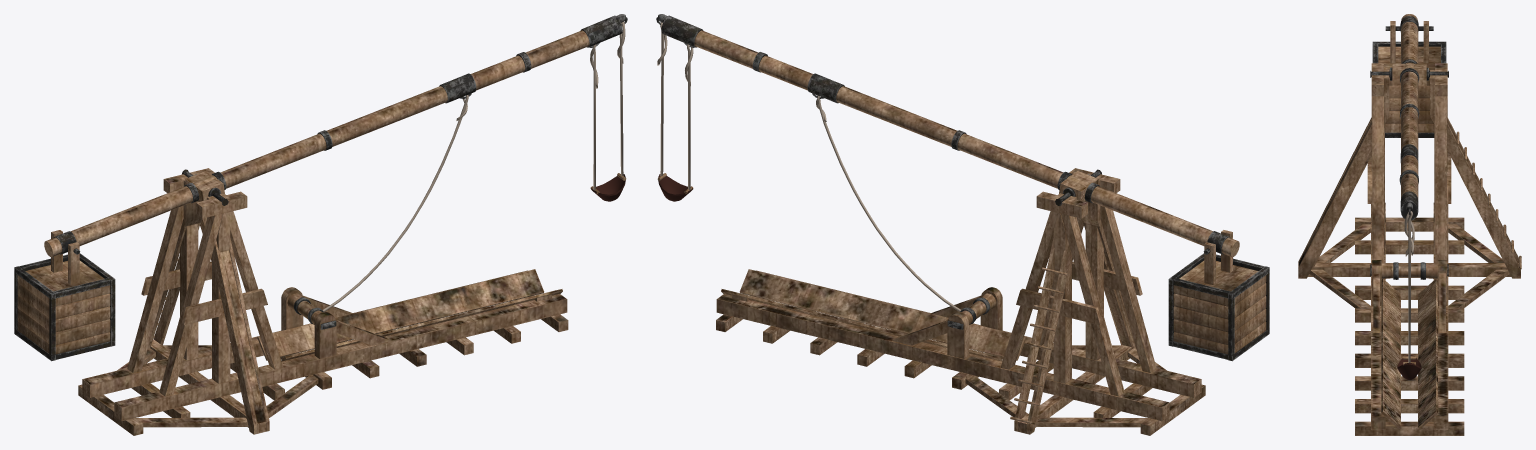
Rendered from trebuchet.lod0.glb.
3 views of the same model, side by side, from view 1: azimuth 30°, elevation 25°; view 2: azimuth 150°, elevation 25°; view 3: azimuth 270°, elevation 25° (orthographic).
Visible parts, largest first — view 1: WoodenFrame_WoodenFrame_0, IronFittings_Iron_0, Ropes_Ropes_0; view 2: WoodenFrame_WoodenFrame_0, IronFittings_Iron_0, Ropes_Ropes_0; view 3: WoodenFrame_WoodenFrame_0, IronFittings_Iron_0, Ropes_Ropes_0.
Boxes of the visible parts, x1,y1,x2,y2 form: WoodenFrame_WoodenFrame_0: (17,30,626,435); IronFittings_Iron_0: (14,14,627,361); Ropes_Ropes_0: (322,21,625,311); WoodenFrame_WoodenFrame_0: (657,30,1266,435); IronFittings_Iron_0: (656,14,1269,361); Ropes_Ropes_0: (657,22,960,311); WoodenFrame_WoodenFrame_0: (1298,14,1521,435); IronFittings_Iron_0: (1370,16,1448,279); Ropes_Ropes_0: (1397,211,1421,379).
Bounding box in the file's own units: 24.84 × 11 × 8.21.
3 materials, 2 textured.
